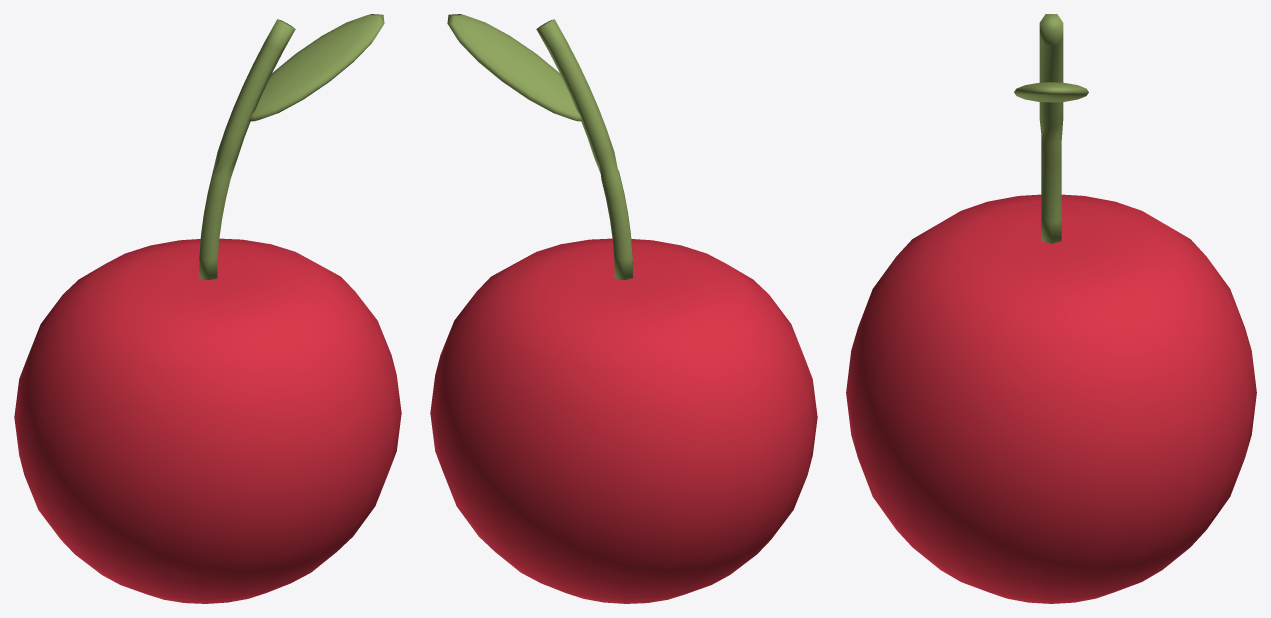
Rendered from Cherry.fbx.
3 renders of one model, left to right at view 1: azimuth 30°, elevation 25°; view 2: azimuth 150°, elevation 25°; view 3: azimuth 270°, elevation 25°, orthographic. The views are drawn at different scales.
Parts seen in each view (by area): view 1: Heart cherry, Curved stem, Leaf; view 2: Heart cherry, Curved stem, Leaf; view 3: Heart cherry, Curved stem, Leaf.
Part boxes in pixels (<box>): Heart cherry: <box>14,238,401,603</box>; Curved stem: <box>199,19,295,280</box>; Leaf: <box>249,14,384,121</box>; Heart cherry: <box>430,238,817,603</box>; Curved stem: <box>536,19,632,280</box>; Leaf: <box>447,14,582,121</box>; Heart cherry: <box>846,194,1256,603</box>; Curved stem: <box>1039,14,1063,243</box>; Leaf: <box>1014,82,1088,102</box>.
Size of the model in its own units: 0.0294 by 0.0446 by 0.0273.
